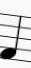note: (1, 11, 22, 62)
